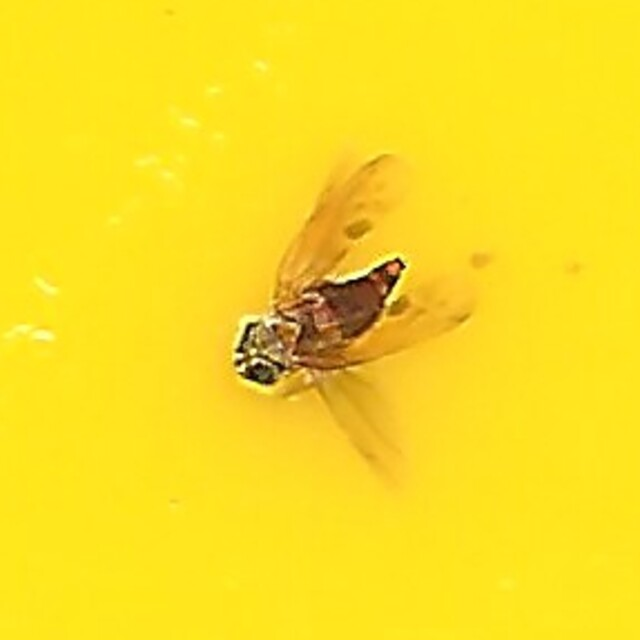Hemiptera: (223, 237, 417, 403)
